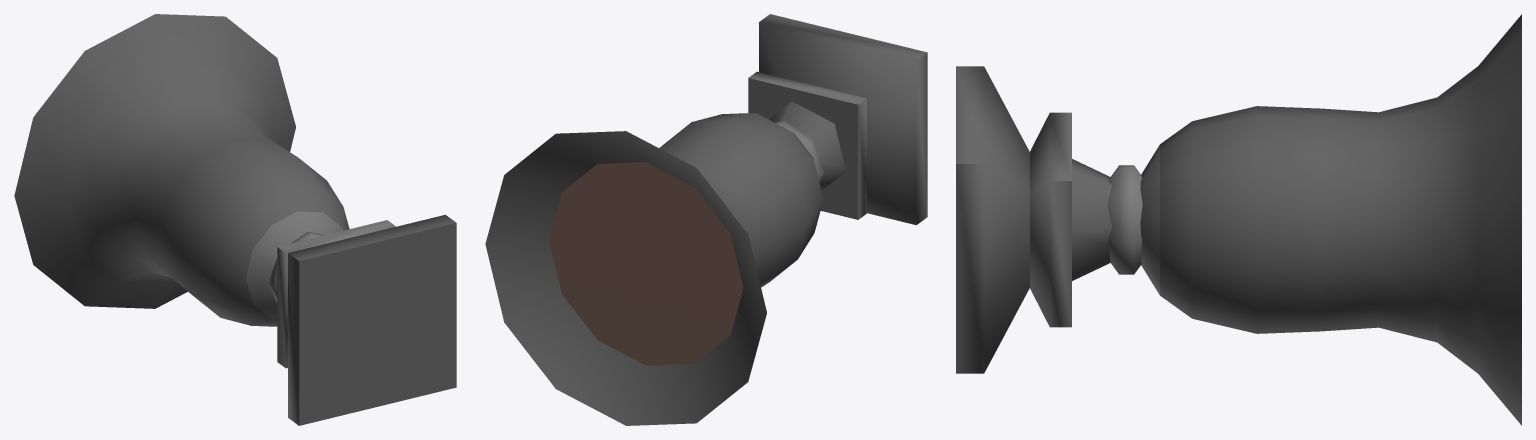
The model's file is plant.glb.
3 renders of one model, left to right at view 1: azimuth 30°, elevation 25°; view 2: azimuth 150°, elevation 25°; view 3: azimuth 270°, elevation 25°, orthographic. The views are drawn at different scales.
Parts seen in each view (by area): view 1: flowerpot_004; view 2: flowerpot_004; view 3: flowerpot_004.
Part boxes in pixels (x1,y1,x2,y2): flowerpot_004: [14, 14, 456, 425]; flowerpot_004: [485, 14, 927, 425]; flowerpot_004: [956, 14, 1521, 425].
Size of the model in its own units: 0.4587 by 0.4587 by 0.6276.
1 material, 1 textured.
